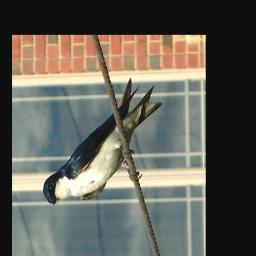Swallow: (40, 77, 165, 207)
